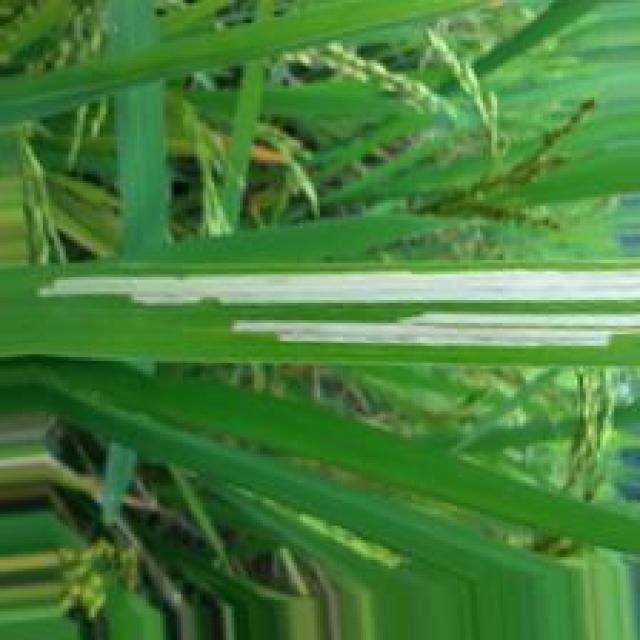Rice_Hispa: (24, 265, 640, 304), (226, 308, 640, 355)
